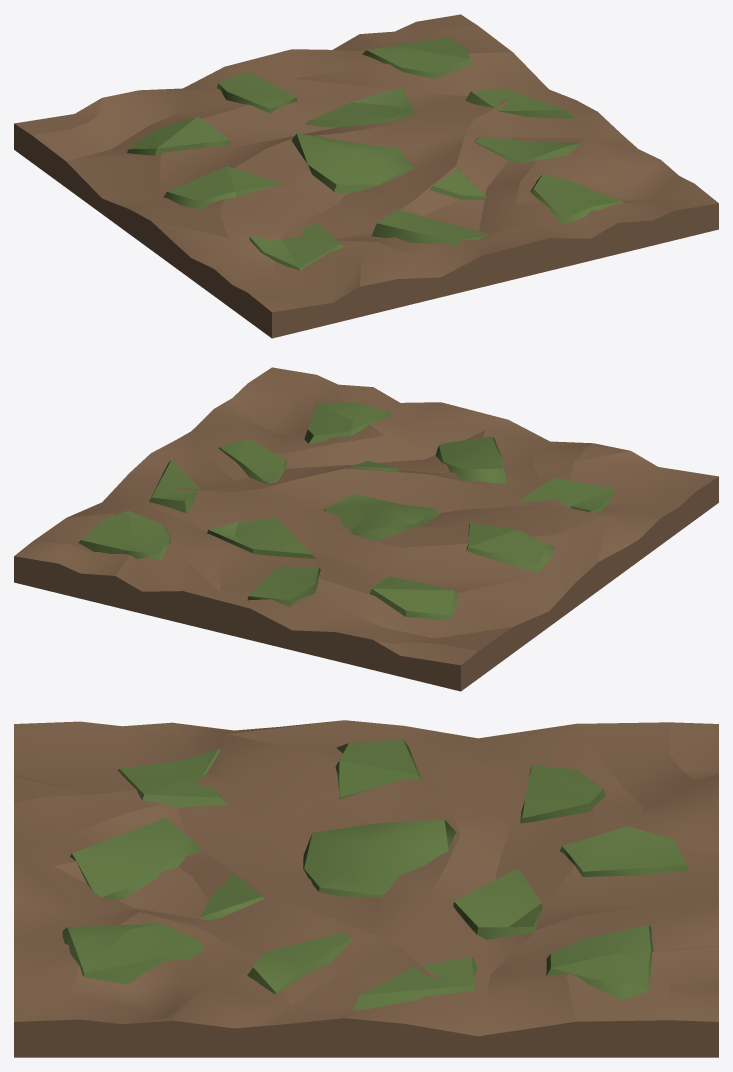
Rendered from Ground_Base_C.glb.
3 renders of one model, top to bottom at view 1: azimuth 30°, elevation 25°; view 2: azimuth 150°, elevation 25°; view 3: azimuth 270°, elevation 25°, orthographic. The views are drawn at different scales.
Parts seen in each view (by area): view 1: Ground_Base_C; view 2: Ground_Base_C; view 3: Ground_Base_C.
Part boxes in pixels (<box>): Ground_Base_C: <box>14,14,718,338</box>; Ground_Base_C: <box>14,367,718,691</box>; Ground_Base_C: <box>14,720,718,1057</box>.
Bounding box in the file's own units: 1.47 × 0.1418 × 1.47.
